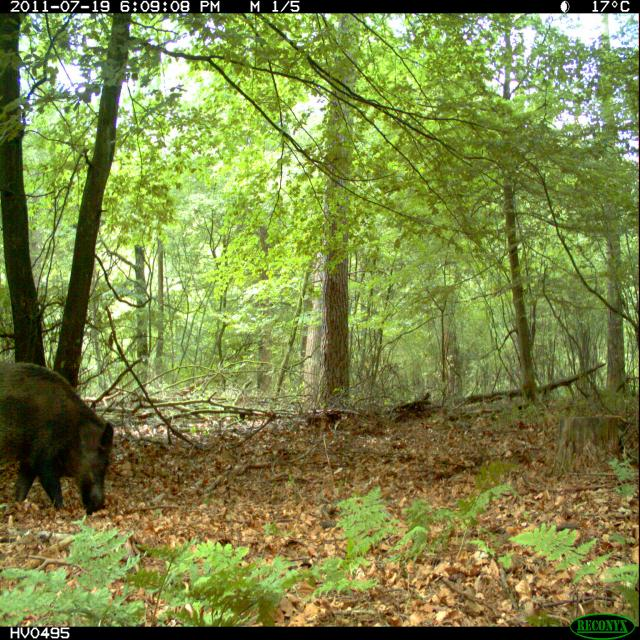boar: (0, 334, 142, 539)
